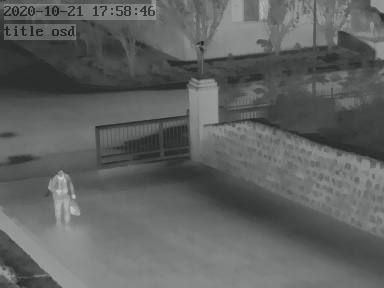person: (52, 168, 77, 223)
